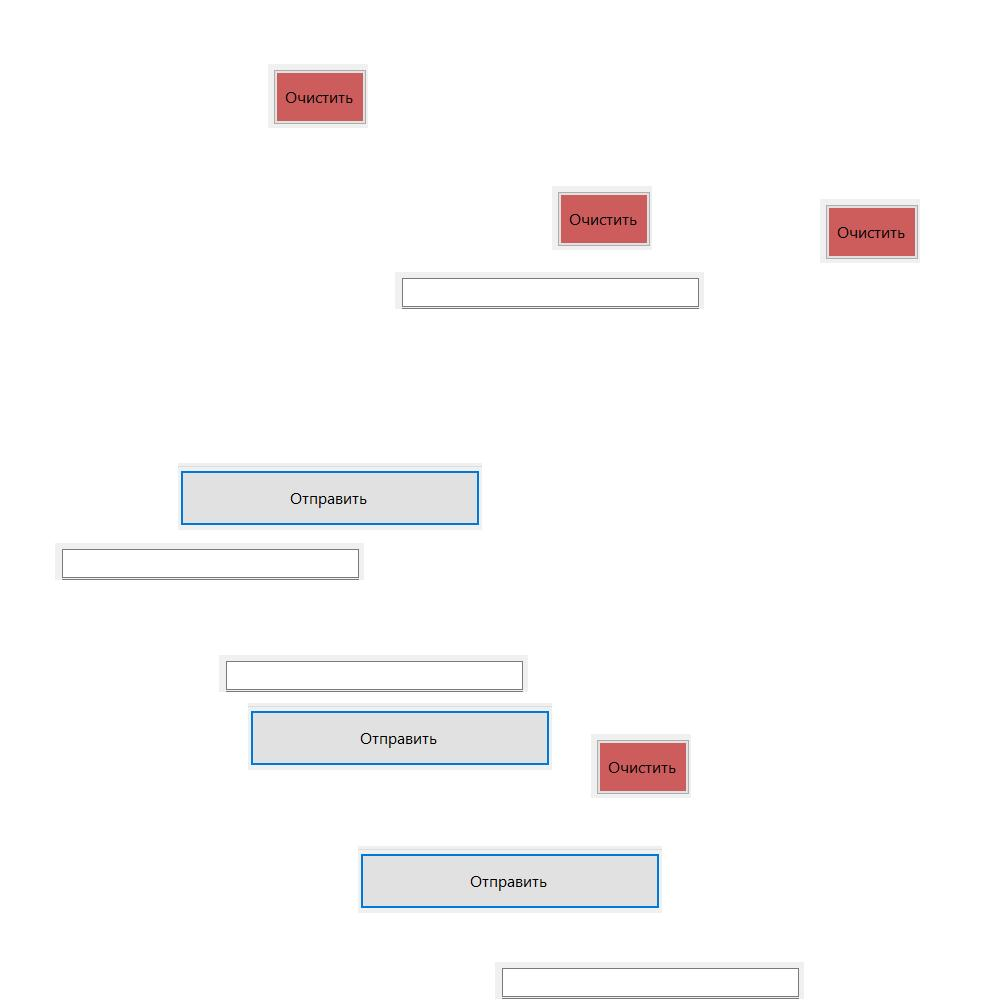Button: (178, 463, 482, 530), (358, 846, 662, 913), (248, 703, 552, 770), (591, 734, 691, 798), (552, 186, 652, 250), (820, 199, 920, 263), (268, 64, 368, 128)
EditText-: (219, 655, 528, 692), (495, 962, 804, 999), (395, 272, 704, 309), (55, 543, 364, 580)
